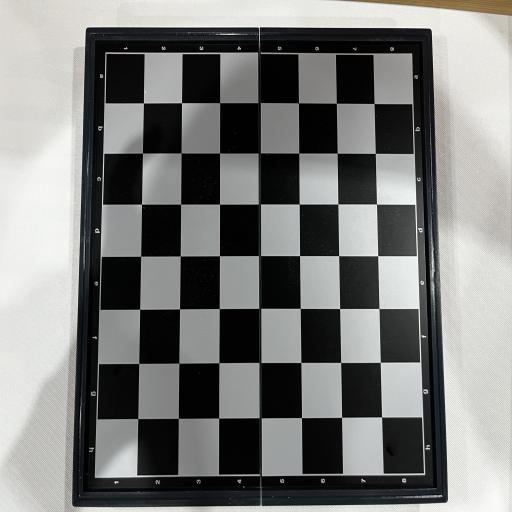Board: (72, 26, 448, 508)
